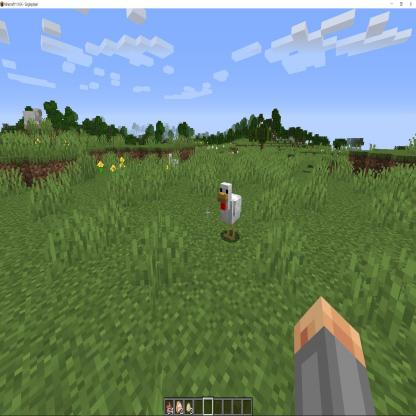minecraft-pigs: (216, 181, 244, 245), (167, 153, 180, 179)
